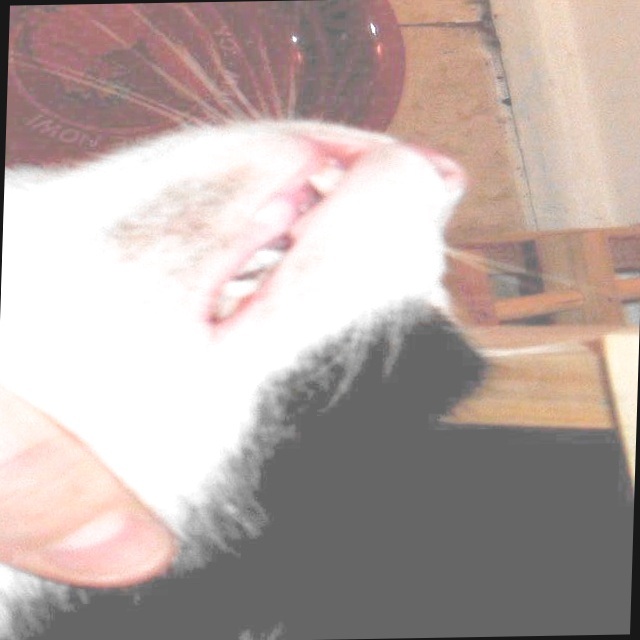acne: (104, 161, 260, 289)
